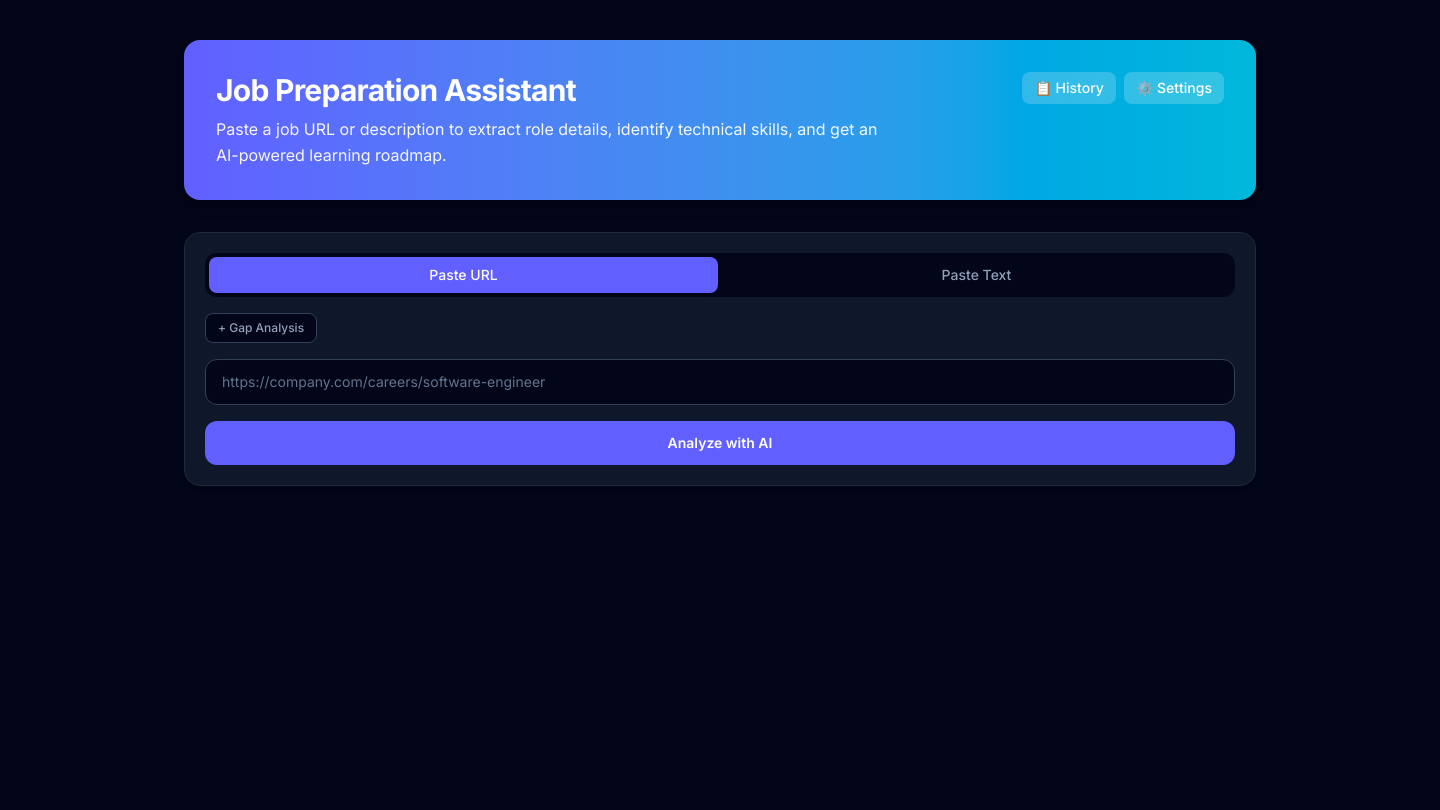
Test: Home › closes history panel via X button
This screenshot has width=1440, height=810.
What coordinates should you click on to do the following:
click the button "📋 History"
I would click on:
 (1069, 88)
Its box is [1022, 72, 1116, 104].
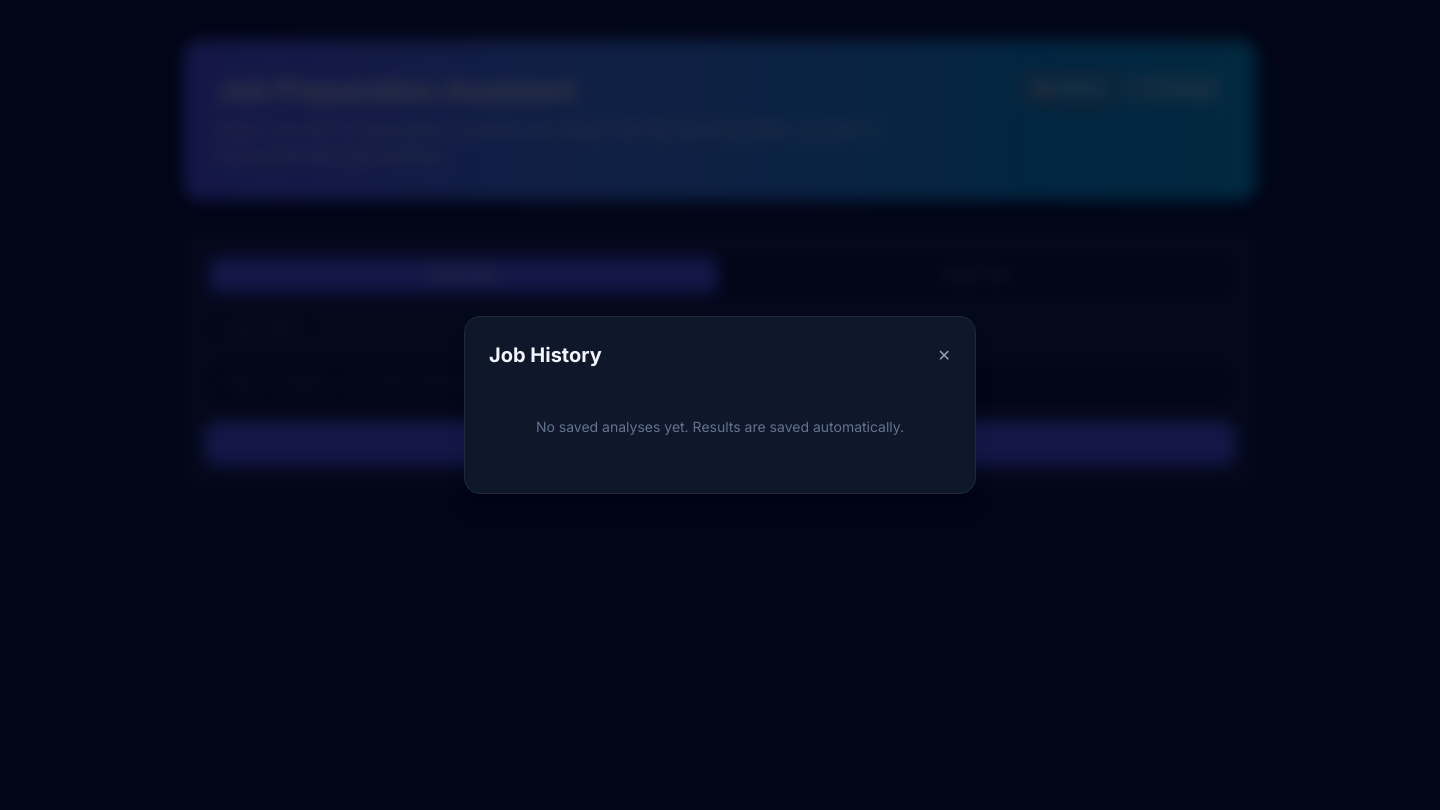
Result: the heading "Job History" is shown at [489, 341, 602, 369]
What coordinates should you click on to do the following:
click the button "✕"
I would click on:
 (944, 355)
Its box is [938, 343, 951, 367].
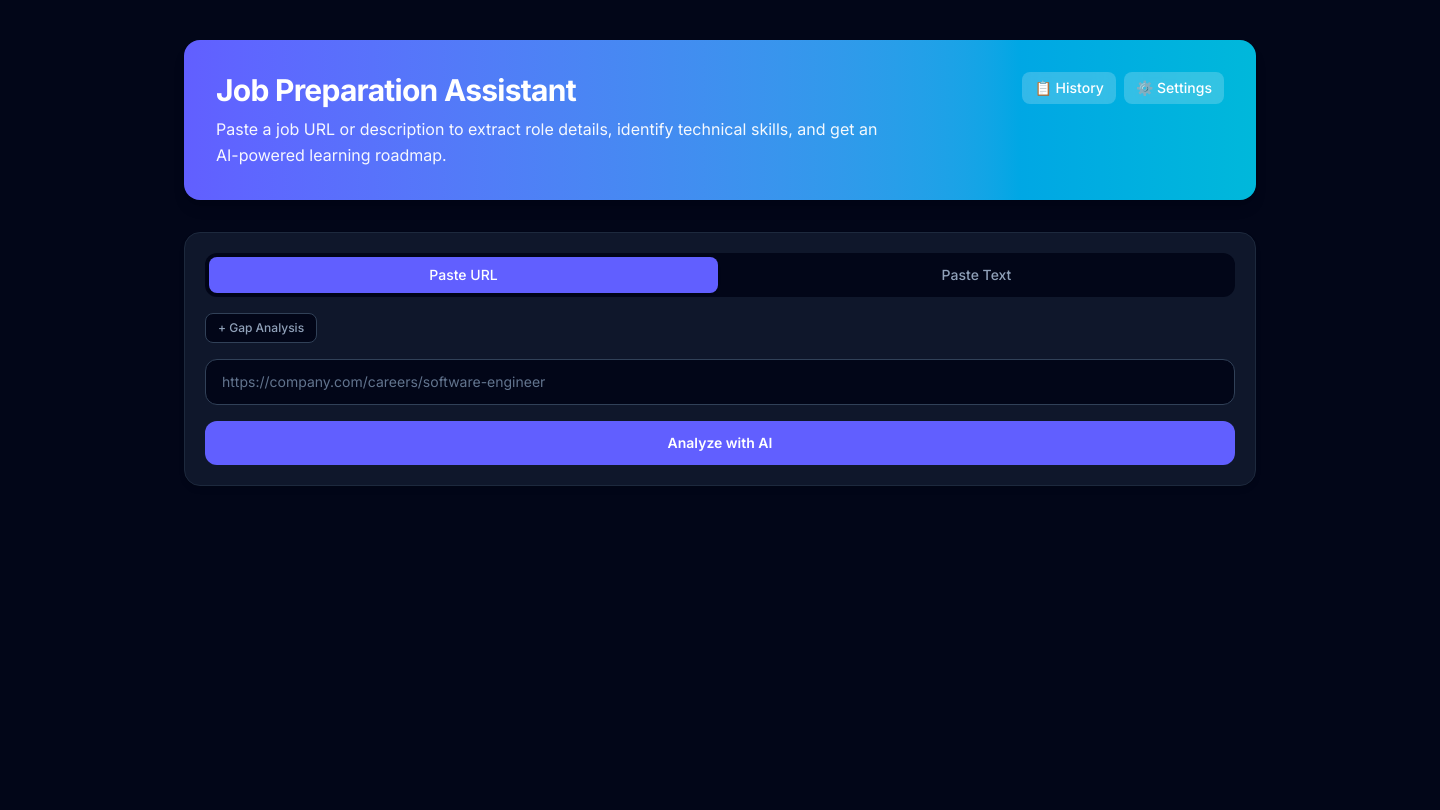
Result: the heading "Job History" is gone
